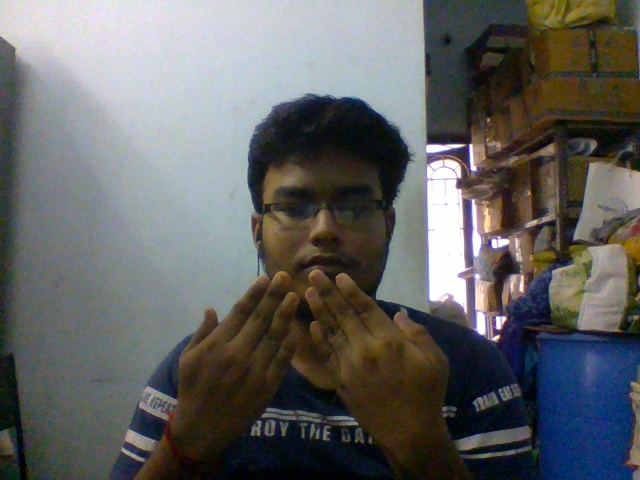ThankYou: (170, 267, 449, 453)
